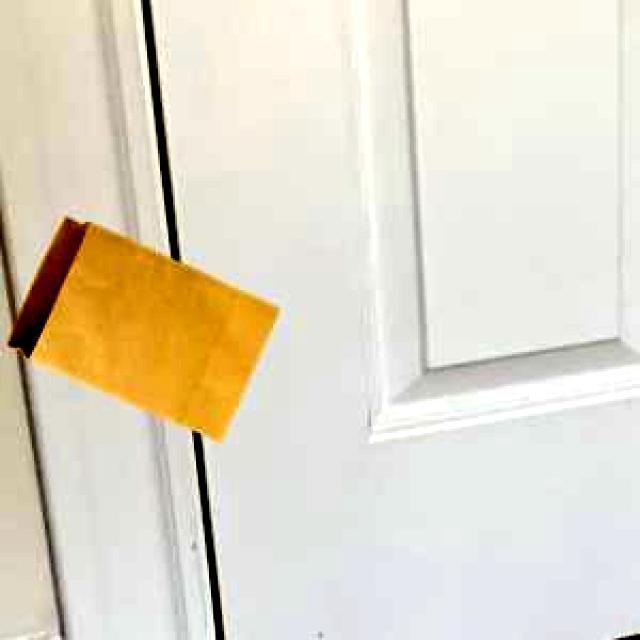Paper_Bag: (5, 214, 276, 438)
